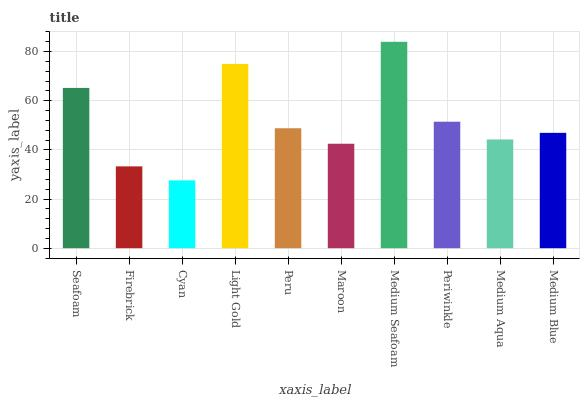axis: (39, 30, 56, 254)
label: (384, 266, 405, 372), (492, 268, 512, 352), (544, 266, 564, 350), (438, 266, 459, 336), (227, 267, 247, 335), (66, 266, 88, 325), (332, 267, 352, 320), (123, 267, 139, 326), (174, 268, 189, 305), (280, 268, 296, 300)
rectangle: (381, 42, 408, 249), (222, 65, 249, 248), (63, 88, 89, 247), (434, 121, 460, 249), (275, 127, 302, 249), (541, 133, 567, 249), (487, 139, 513, 249), (329, 144, 355, 249), (117, 165, 142, 248), (167, 179, 196, 249)
title: (41, 5, 92, 29)
